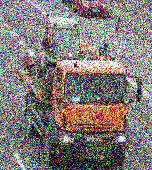truck: (16, 13, 143, 168)
